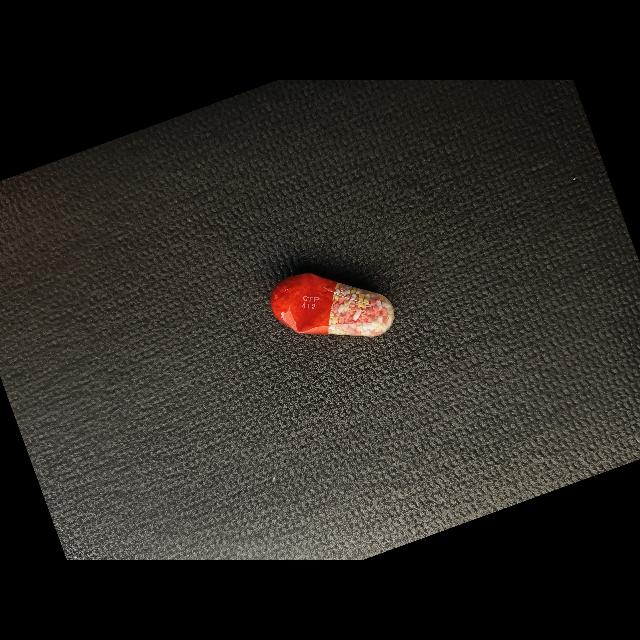Defective Capsule: (271, 273, 394, 337)
